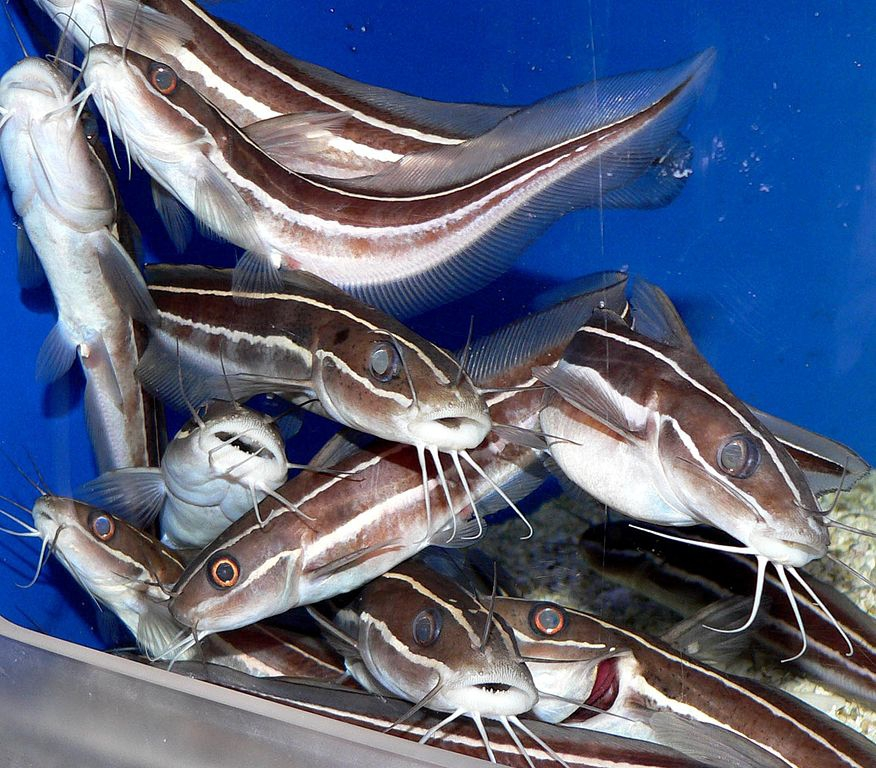gonzui: (92, 37, 683, 292), (532, 251, 852, 585), (130, 222, 514, 462)
